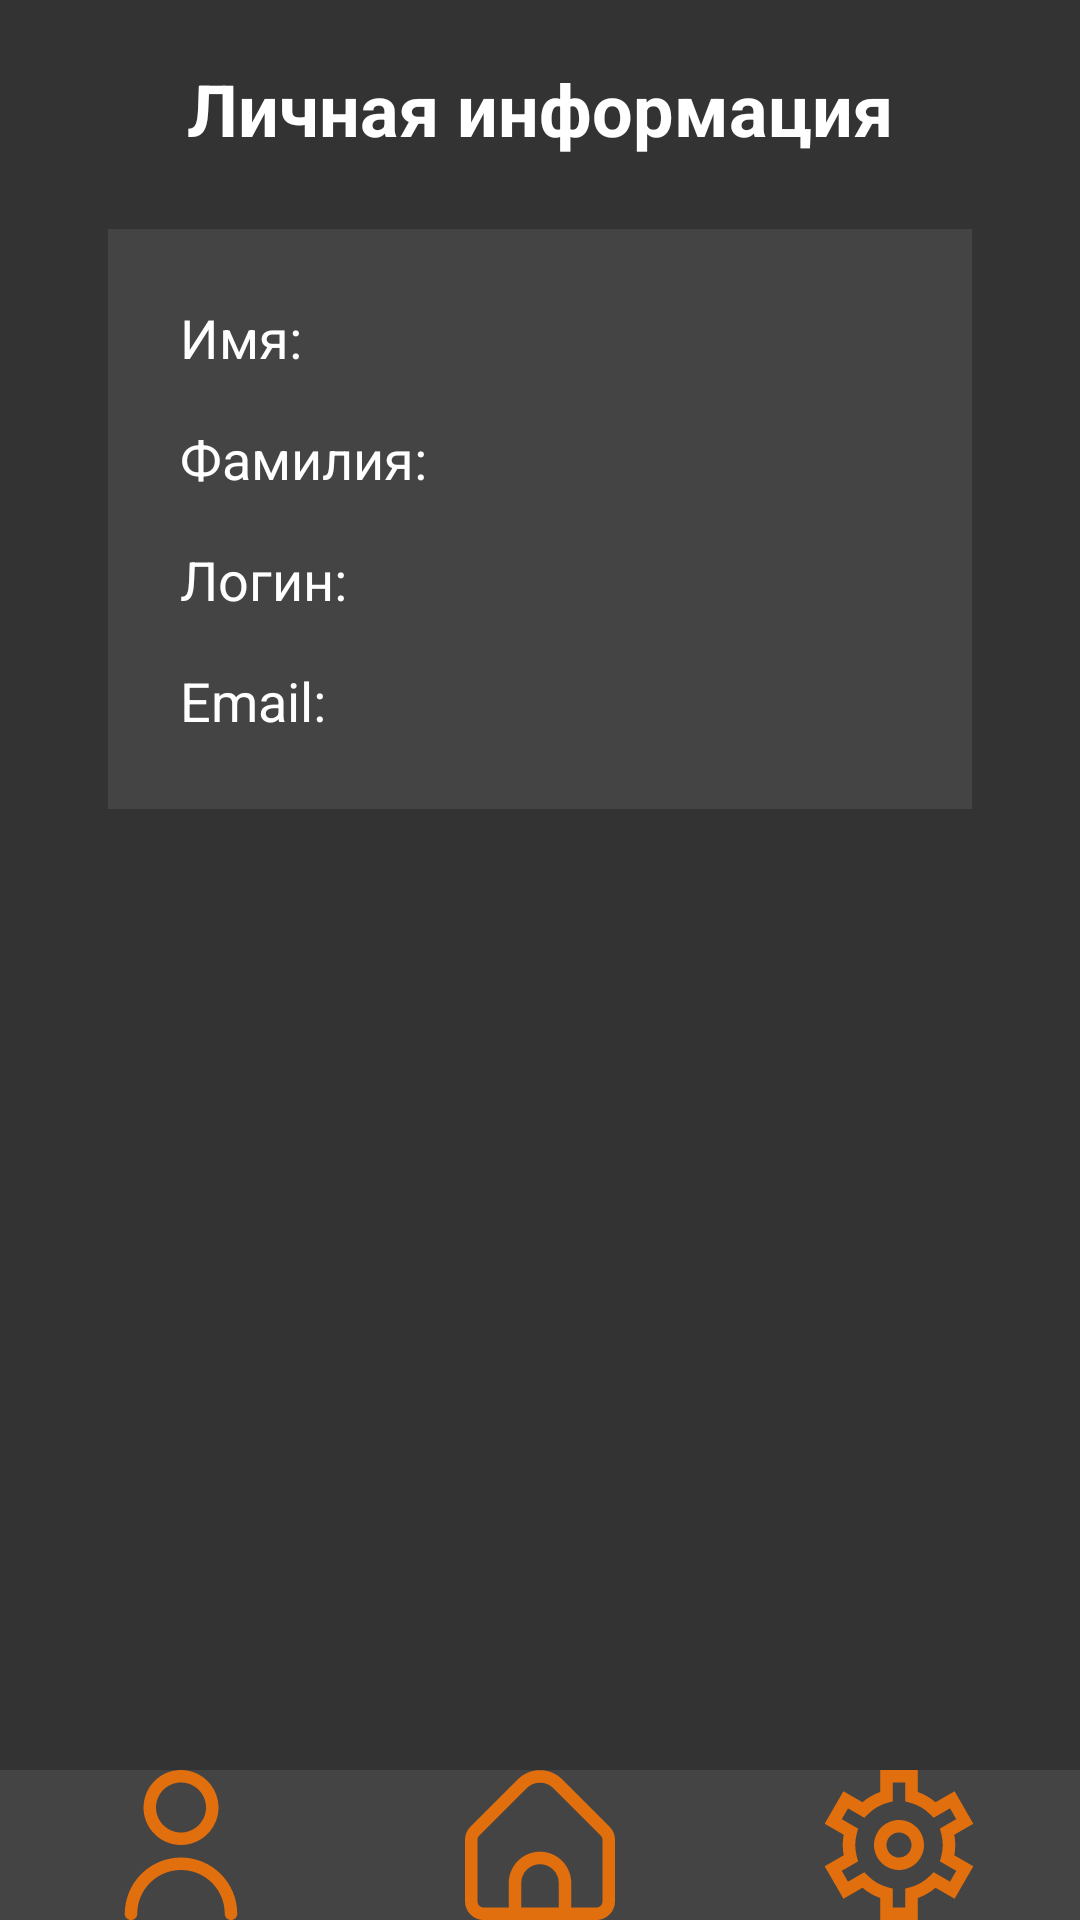

Where icons sit on this 1080×1920 app screen, as (x1, y1, x2, y2):
Главная: (362, 1770, 718, 1920)
Настройки: (825, 1770, 973, 1920)
Профиль: (124, 1770, 238, 1920)
